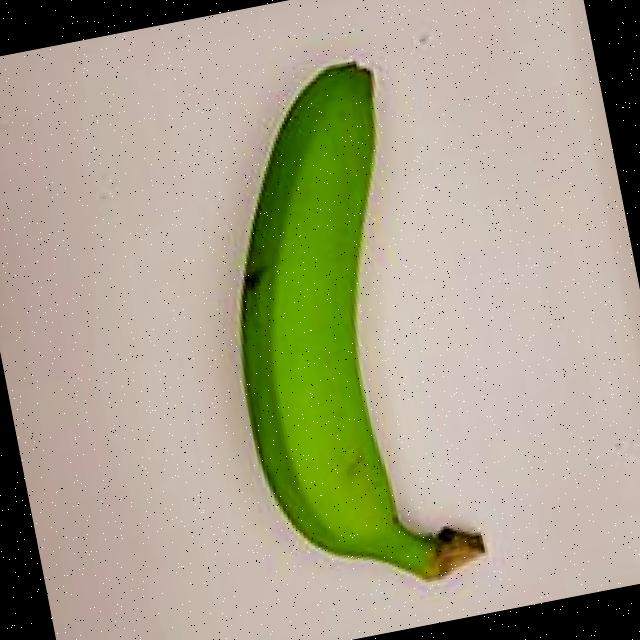Unripe: (132, 15, 533, 640)
